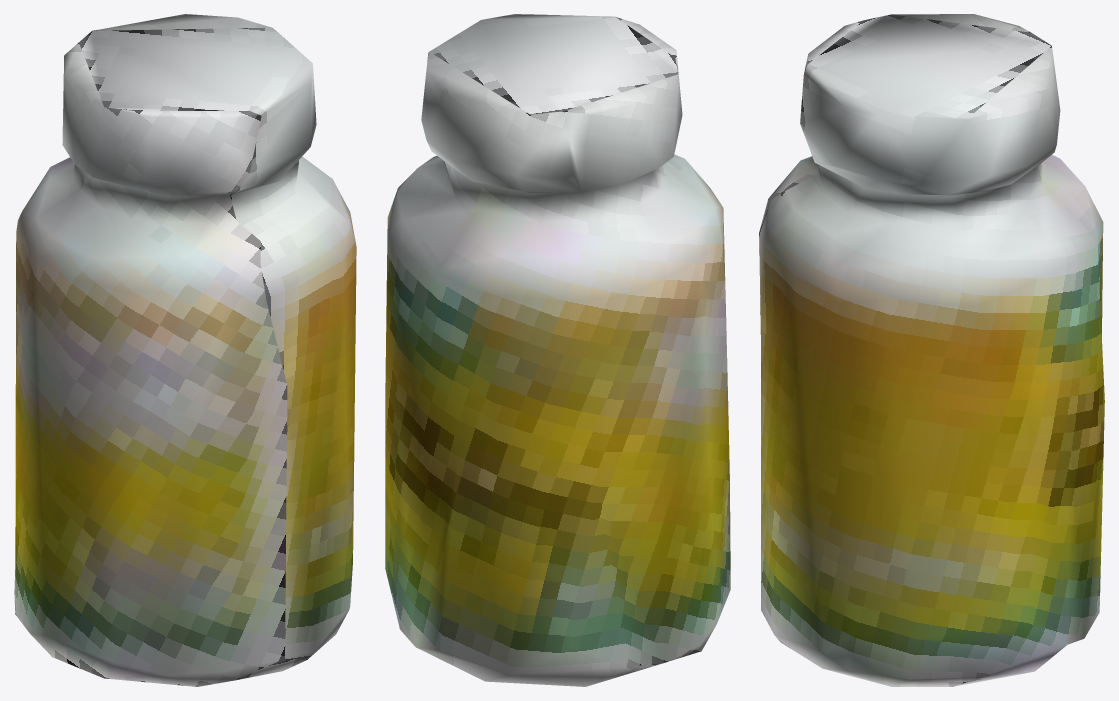
The model's file is AllergenFree_JarroDophilus-low.glb.
3 renders of one model, left to right at view 1: azimuth 30°, elevation 25°; view 2: azimuth 150°, elevation 25°; view 3: azimuth 270°, elevation 25°, orthographic.
Visible parts, largest first — view 1: AllergenFree_JarroDophilus; view 2: AllergenFree_JarroDophilus; view 3: AllergenFree_JarroDophilus.
Boxes of the visible parts, x1,y1,x2,y2 form: AllergenFree_JarroDophilus: [14, 14, 356, 686]; AllergenFree_JarroDophilus: [385, 14, 730, 686]; AllergenFree_JarroDophilus: [759, 14, 1104, 686].
Size of the model in its own units: 0.0532 by 0.096 by 0.0532.
1 material, 1 textured.
